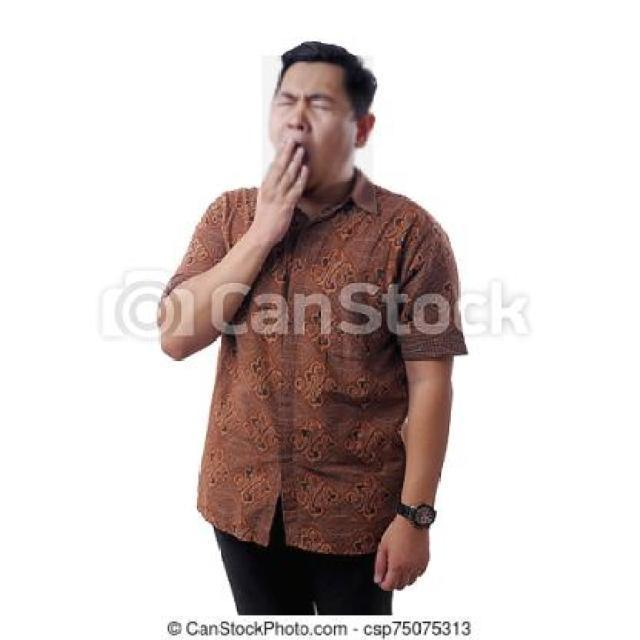Sleepy: (271, 52, 364, 190)
